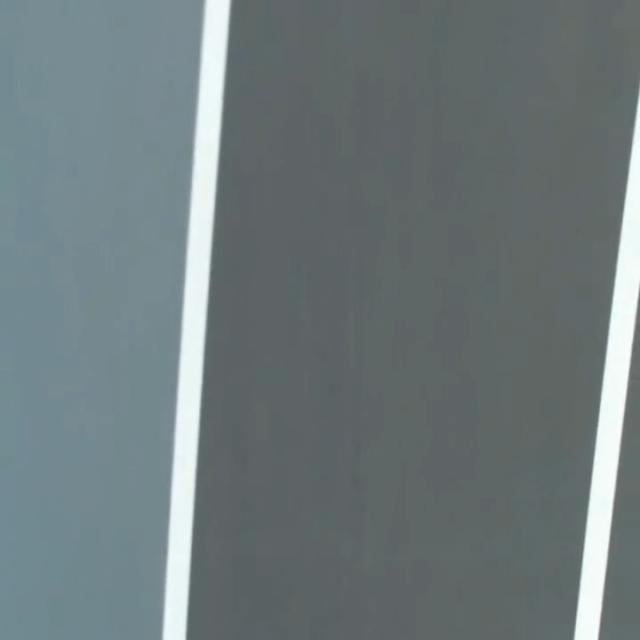center: (573, 86, 639, 639)
left: (162, 0, 230, 639)
